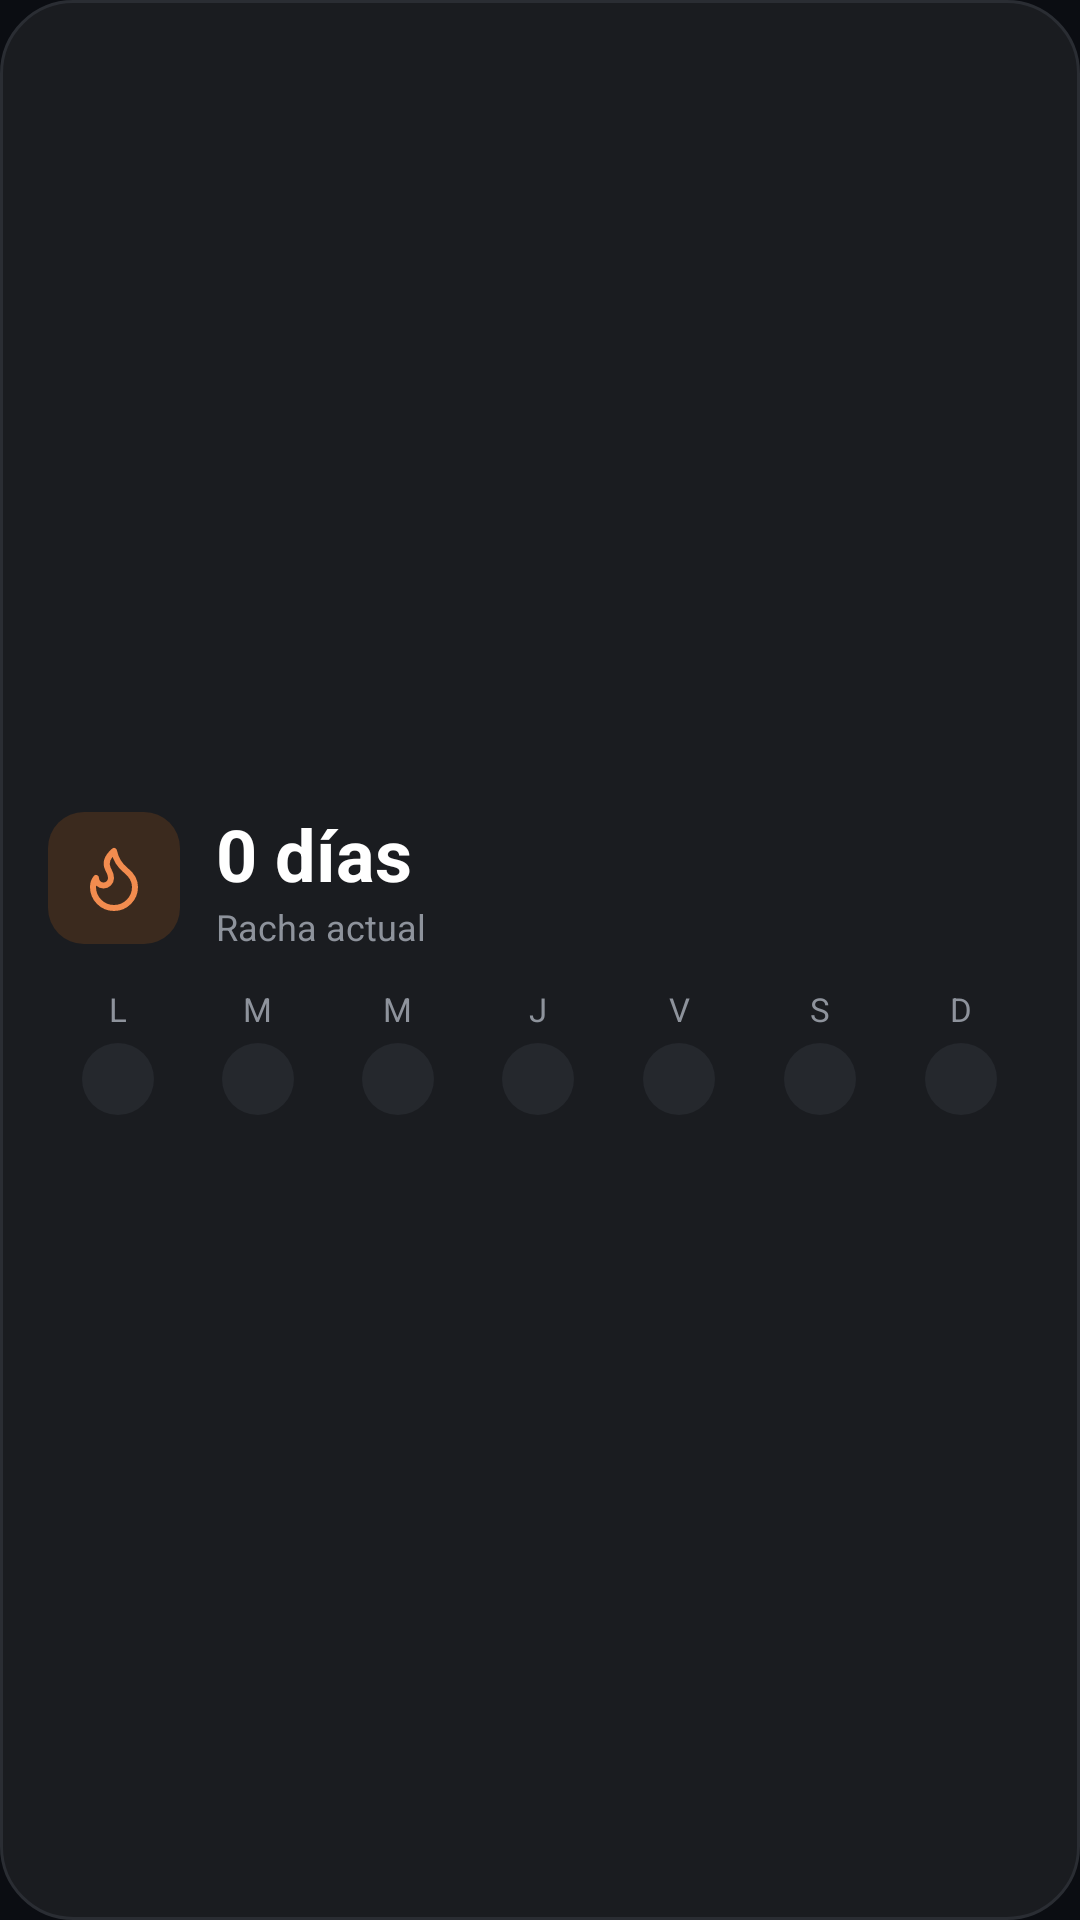

Screen size 1080×1920. Icon name, then its box in pixels as (x1, y1, x2, y2):
widget flame: (90, 848, 138, 911)
